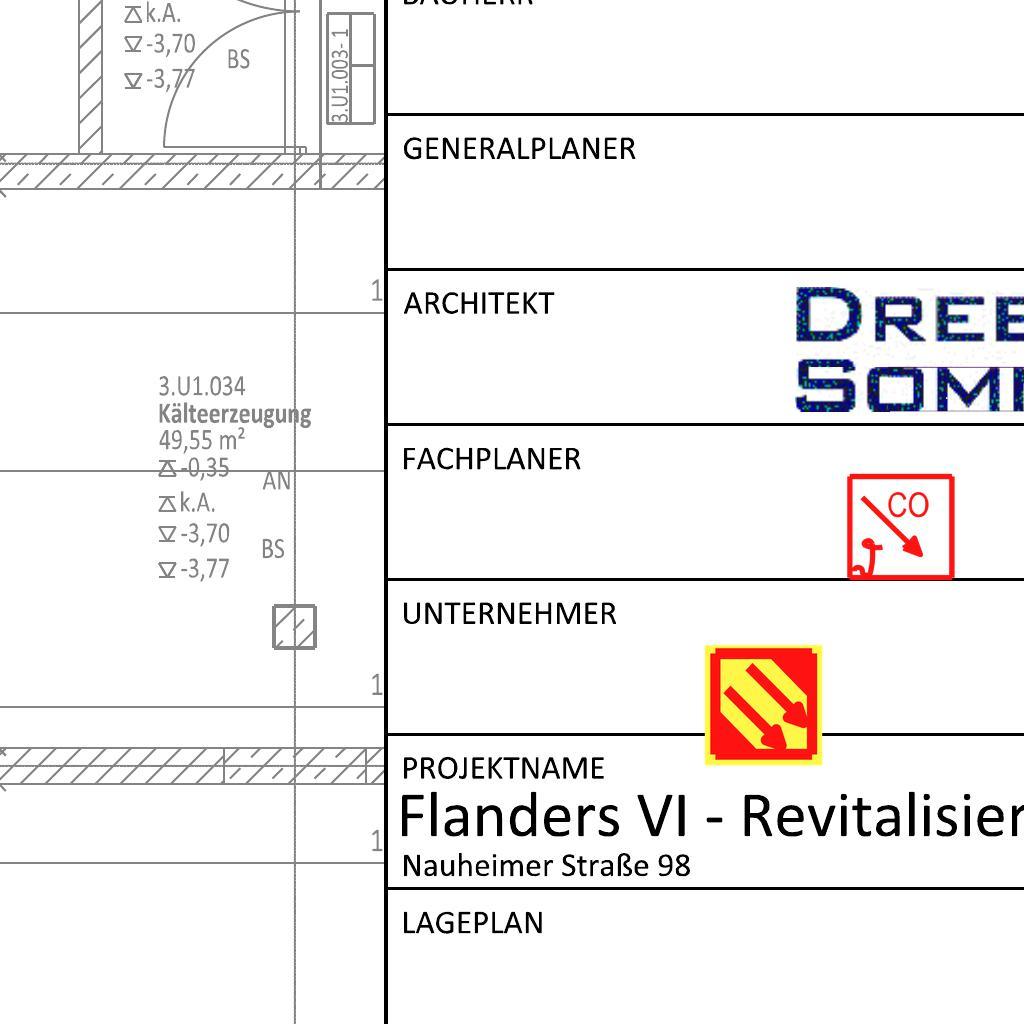ASR_Ansaugrauchmelder: (701, 643, 826, 768)
ROA_Rauchmelder_optisch_mit_Signalgeber_(Sockelsirene): (845, 472, 958, 585)
